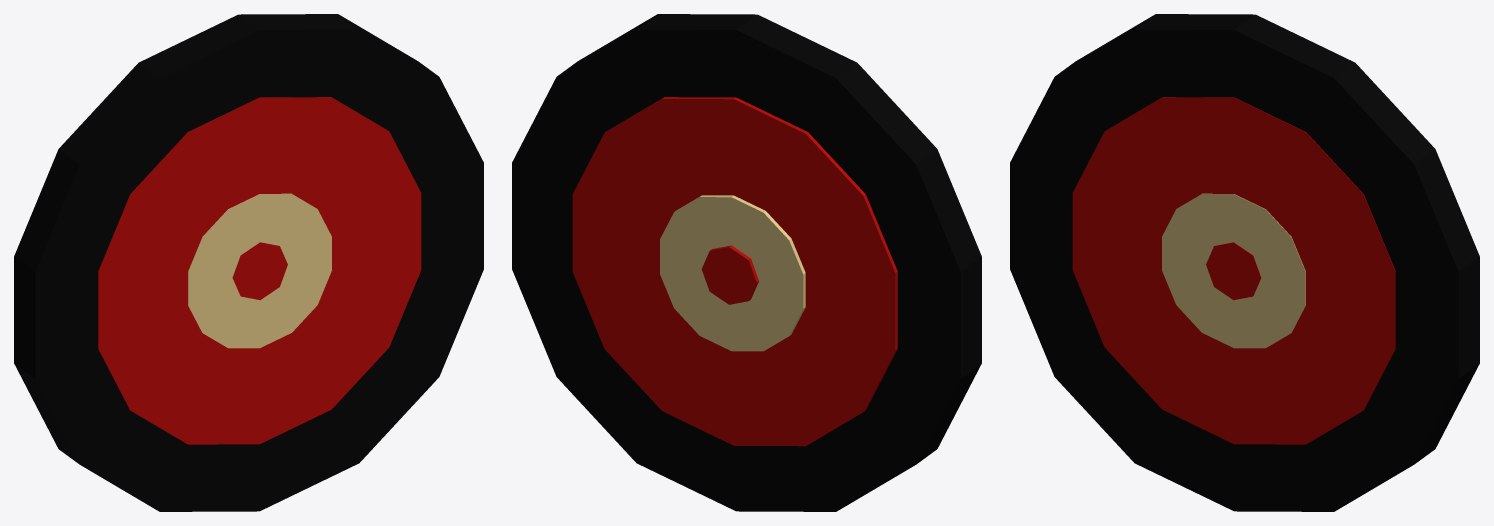
Rendered from dartboard.obj.
The picture shows the model from 3 angles, left to right: view 1: azimuth 30°, elevation 25°; view 2: azimuth 150°, elevation 25°; view 3: azimuth 330°, elevation 25°; orthographic projection.
Visible parts, largest first — view 1: dartboard; view 2: dartboard; view 3: dartboard.
Part boxes in pixels (x1=…): dartboard: x1=14, y1=14, x2=483, y2=511; dartboard: x1=512, y1=14, x2=981, y2=511; dartboard: x1=1010, y1=14, x2=1479, y2=511.
Size of the model in its own units: 0.4875 by 0.5 by 0.055.
